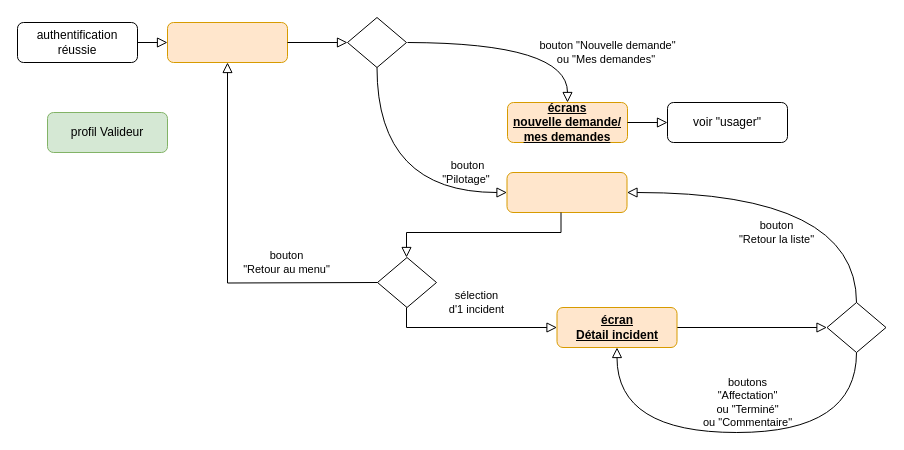
This 904x450 diagram has some shape labels left out. Each missing label, with the centre of its shape:
"écran accueil valideur" belongs at point (227, 42).
"écran Pilotage" belongs at point (566, 192).
